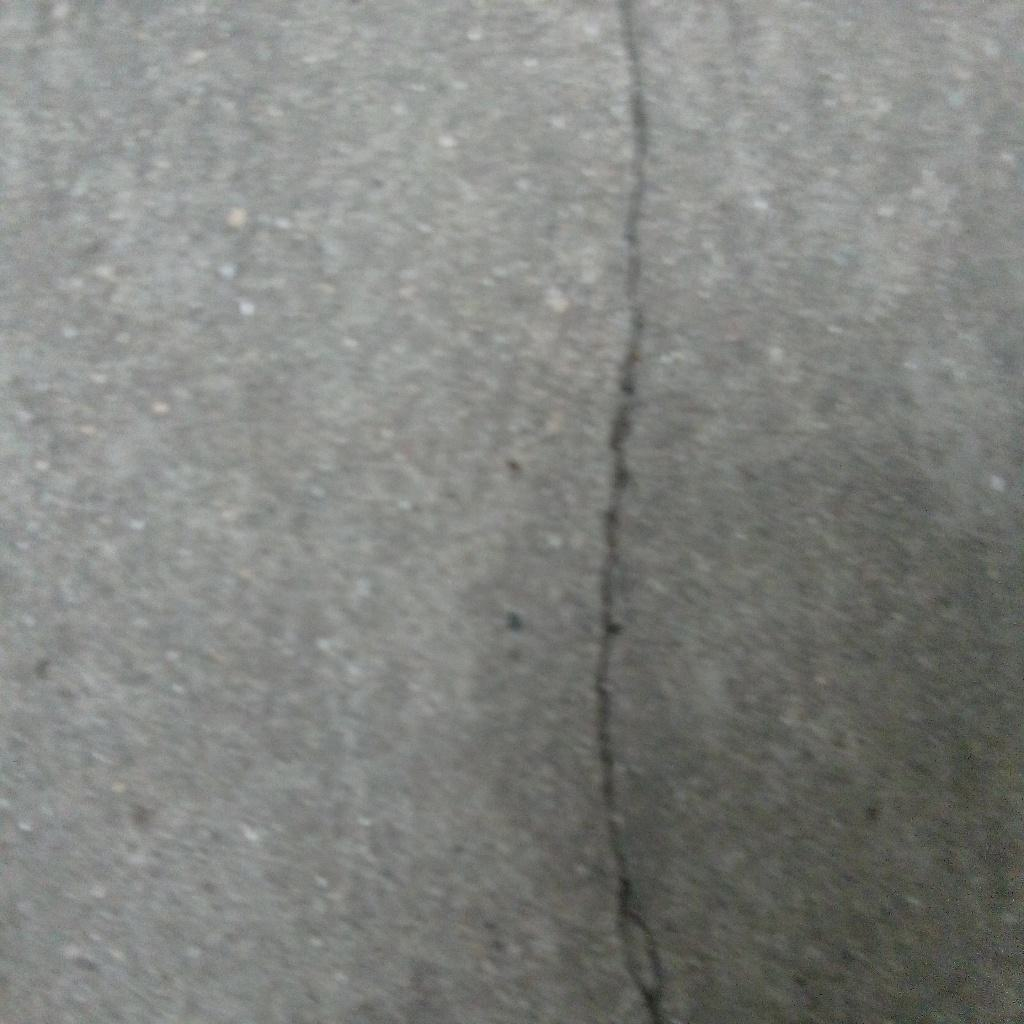Crack: (594, 1, 667, 1024)
